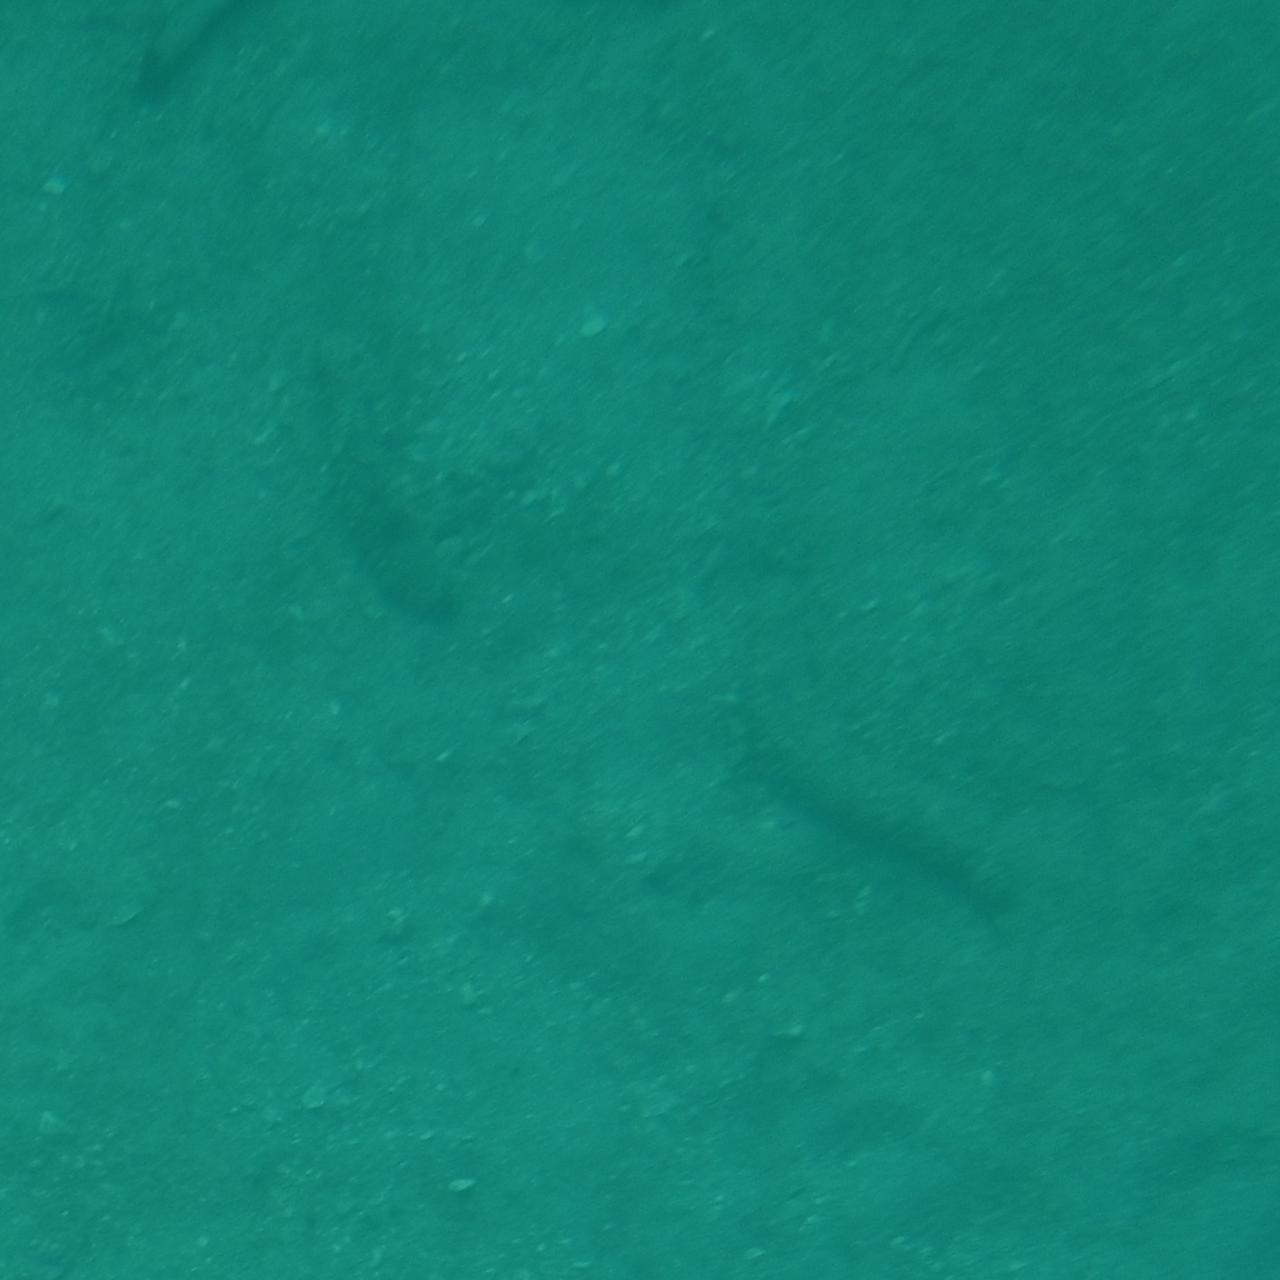Holothuria tubulosa: (745, 695, 1037, 888), (307, 320, 472, 628)
